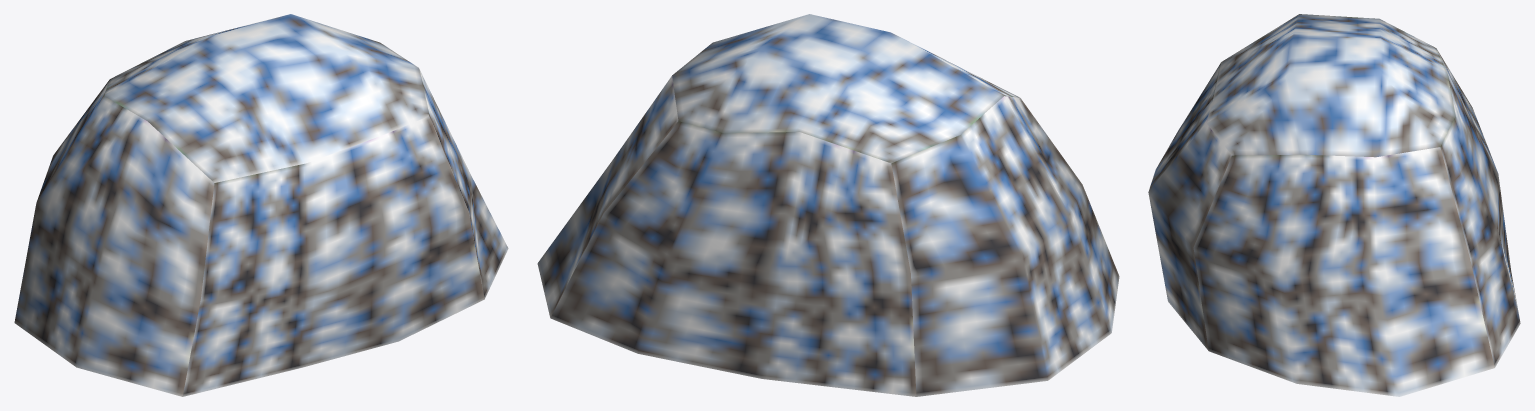
Rendered from small_snowy_Rock.fbx.
The picture shows the model from 3 angles, left to right: view 1: azimuth 30°, elevation 25°; view 2: azimuth 150°, elevation 25°; view 3: azimuth 270°, elevation 25°; orthographic projection. The views are drawn at different scales.
Visible parts, largest first — view 1: small_snowy_Rock; view 2: small_snowy_Rock; view 3: small_snowy_Rock.
Boxes of the visible parts, x1,y1,x2,y2 form: small_snowy_Rock: [14, 14, 508, 396]; small_snowy_Rock: [537, 14, 1119, 396]; small_snowy_Rock: [1148, 14, 1520, 396].
Bounding box in the file's own units: 1.23 × 0.6074 × 0.8797.
